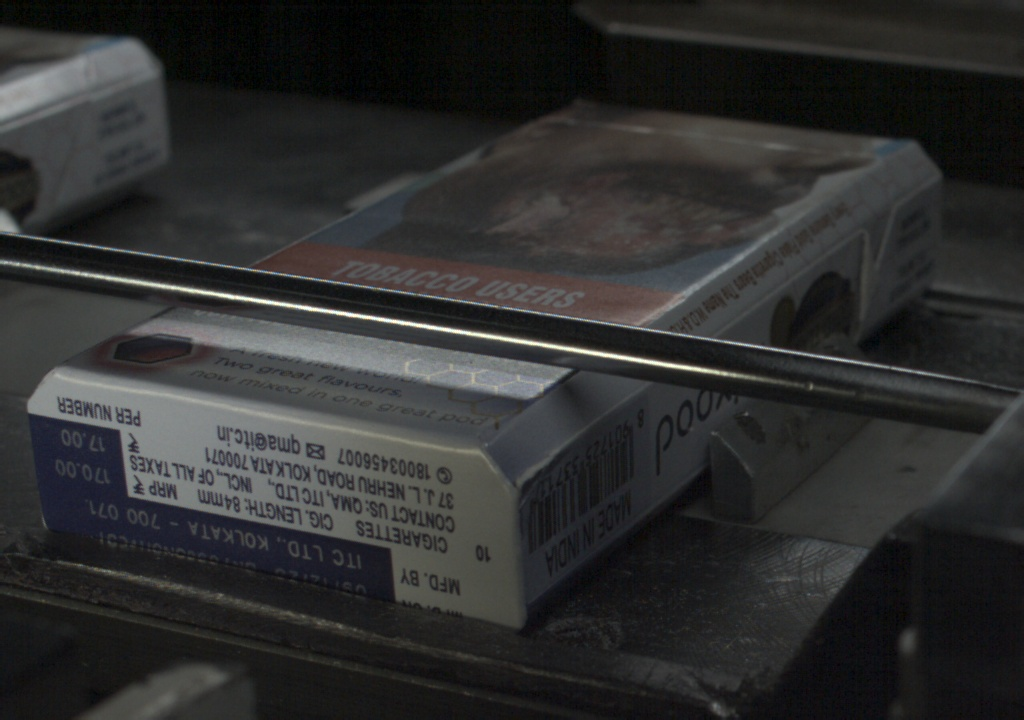g_bottom: (28, 365, 523, 630)
g_label: (39, 492, 394, 603)
g_lmiter: (581, 384, 647, 436), (765, 249, 829, 294), (714, 286, 774, 332)
g_miter: (890, 172, 941, 207)
ng_lmiter: (840, 208, 888, 327), (515, 434, 579, 484)
price: (32, 423, 125, 489)
